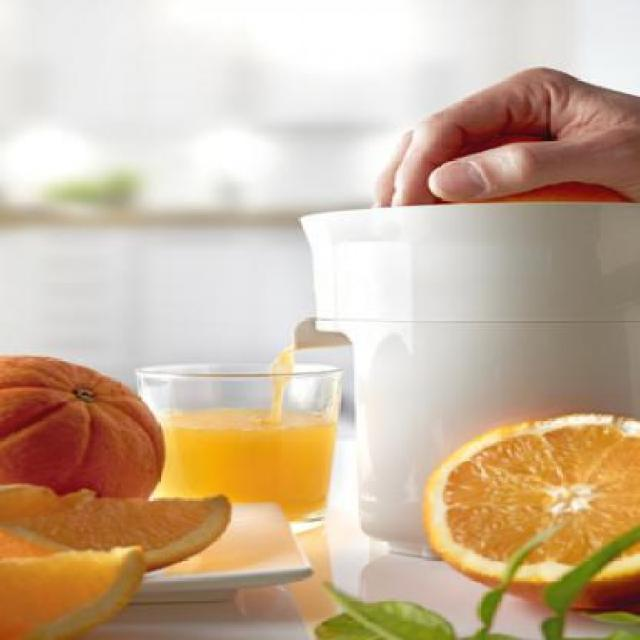Jeruk Sudah Matang: (1, 347, 174, 536)
